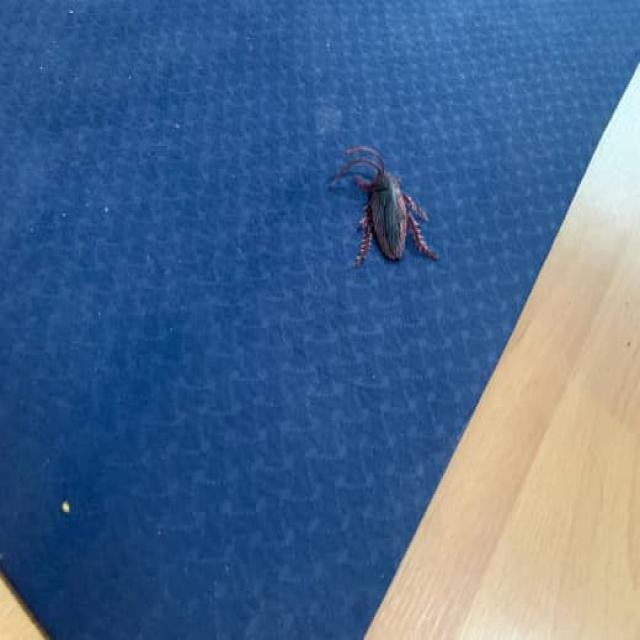Cockroach: (335, 134, 437, 261)
